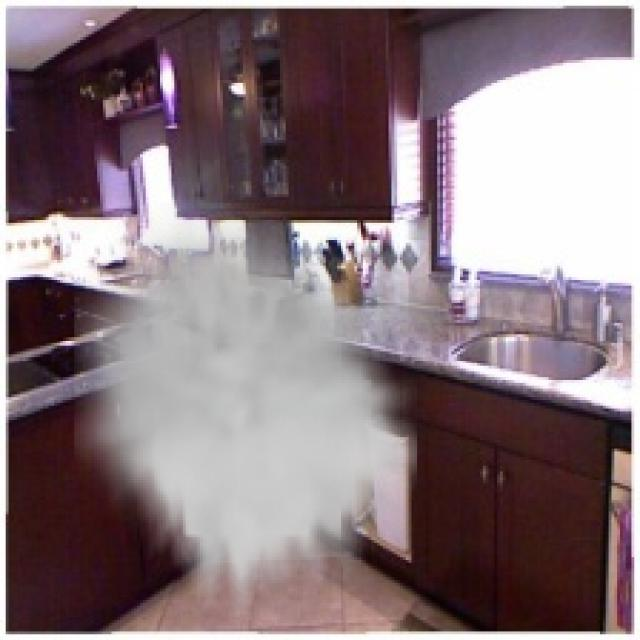smoke: (74, 203, 417, 614)
